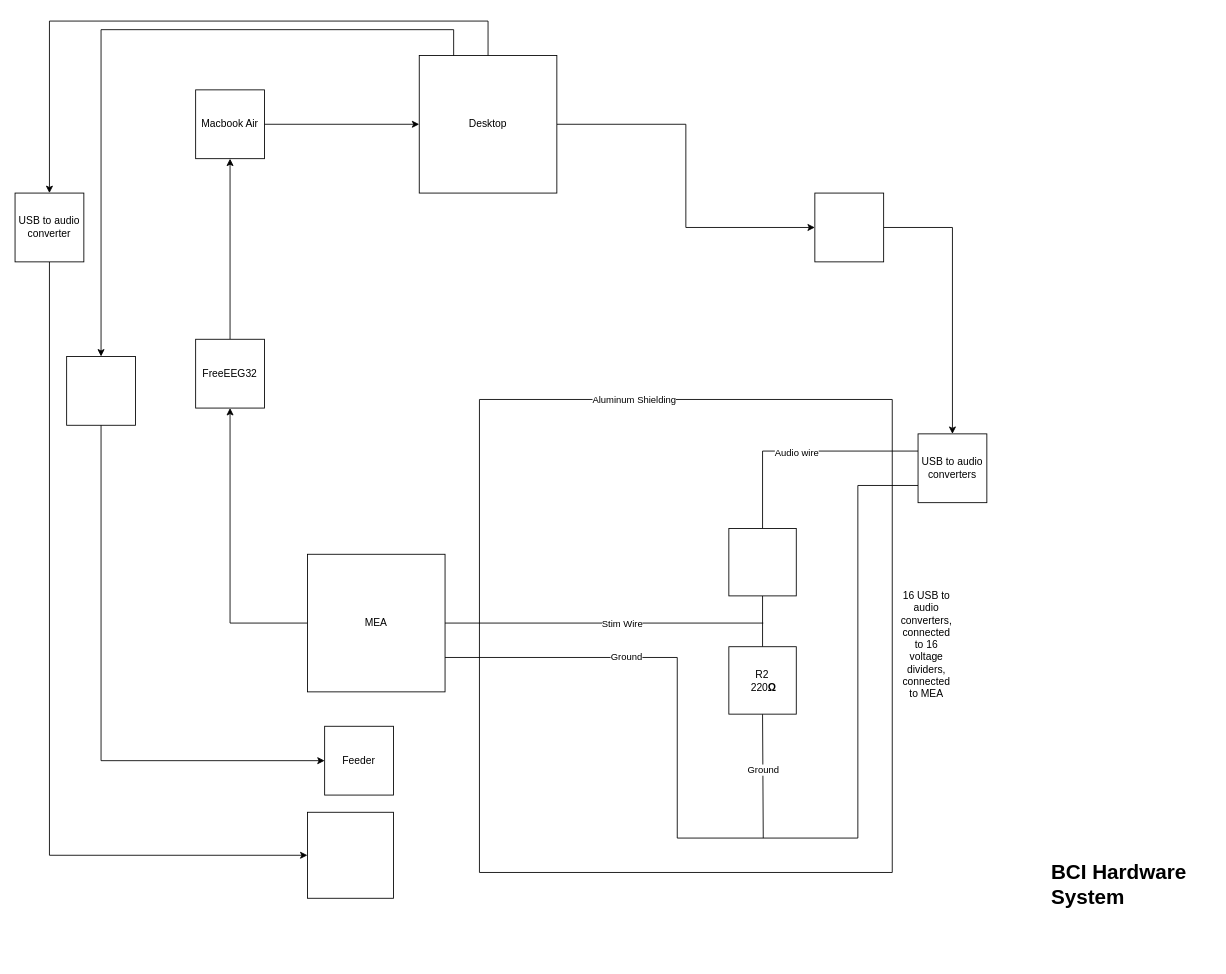
The diagram is 1226 pixels wide and 974 high, and some of its shapes have lost their labels. The centre of each missing label's shape, as x and y in pixels:
"R1 1M Ω" goes at point (762, 562).
"Reward/Distress Speaker" goes at point (350, 854).
"USB Hub" goes at point (849, 227).
"USB Relay" goes at point (100, 390).
